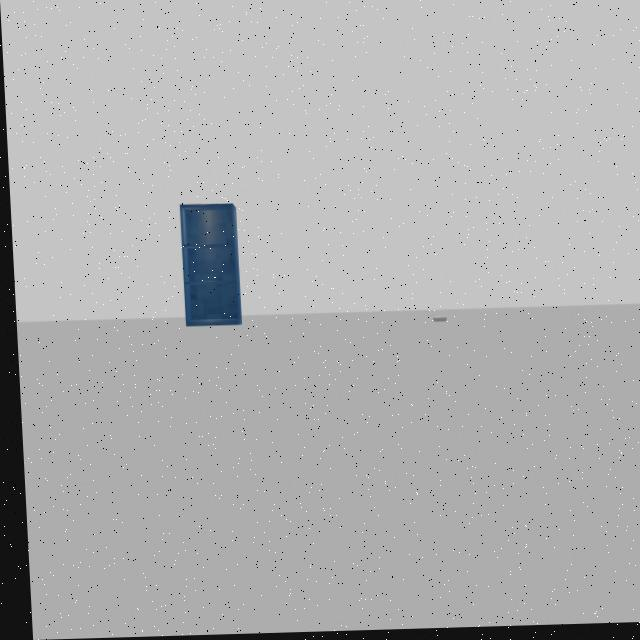bowl: (429, 317, 448, 329)
shelf: (170, 187, 252, 347)
